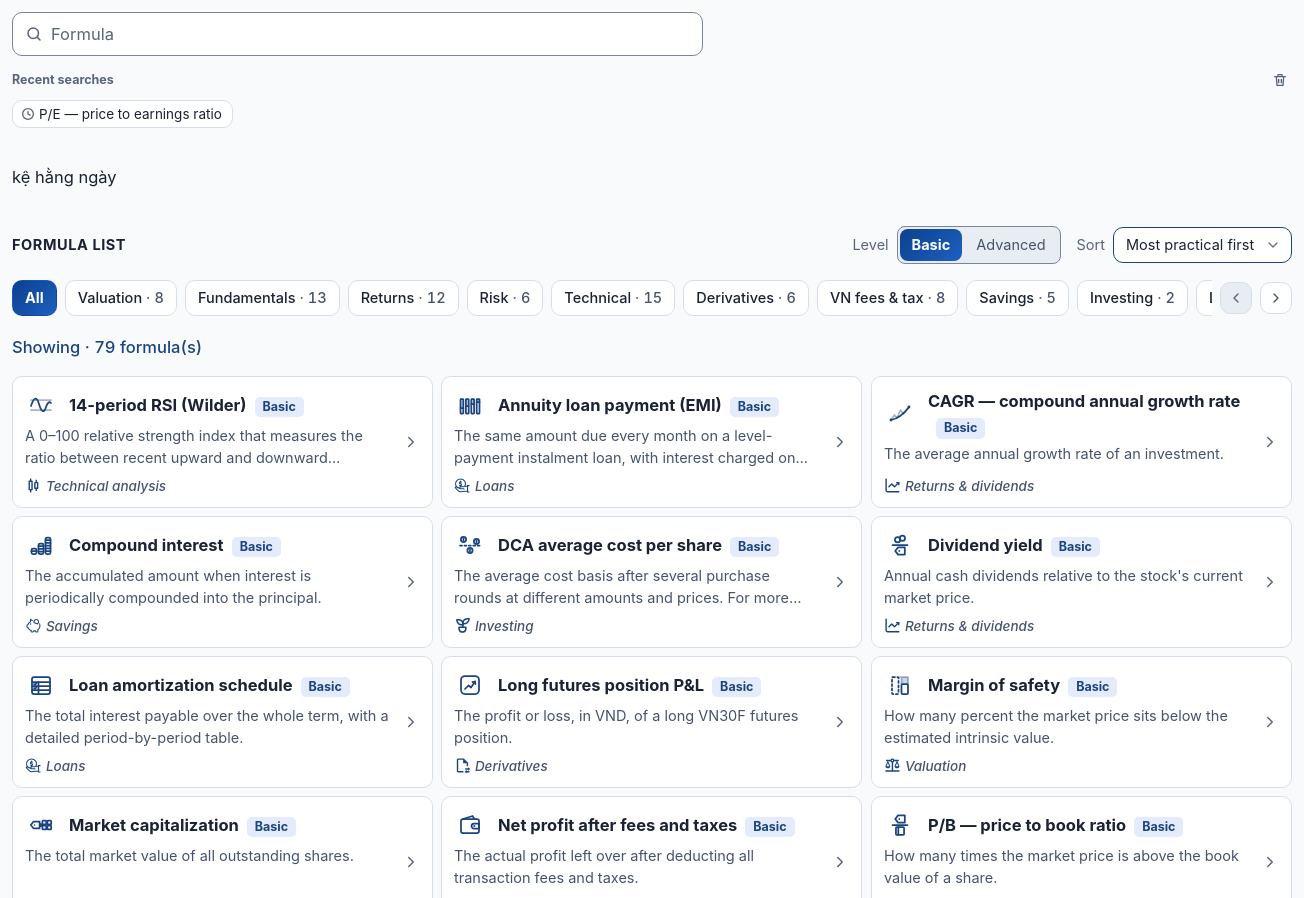
Test: FormulaListScreen — ô tìm lọc cả danh sách tại chỗ › tiếng Anh: chip ghi bằng tên Việt hiện bằng tên Anh, bấm thì lọc theo tên Anh
This screenshot has width=1304, height=898.
Click the button "P/E — price to earnings ratio" at [122, 114], box [12,100,233,128]
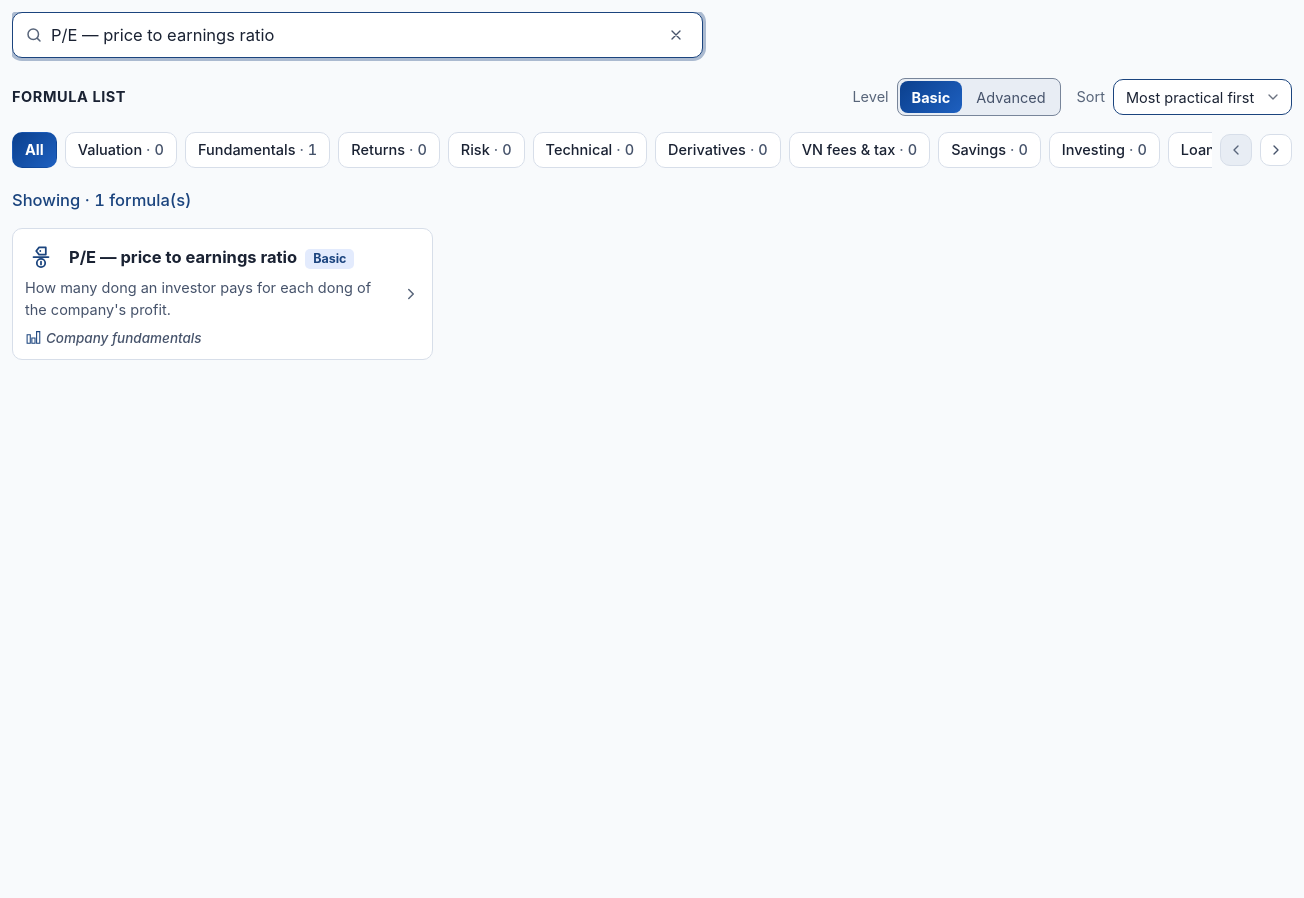
Expected: the search field holds "P/E — price to earnings ratio", [51,25,646,45]
